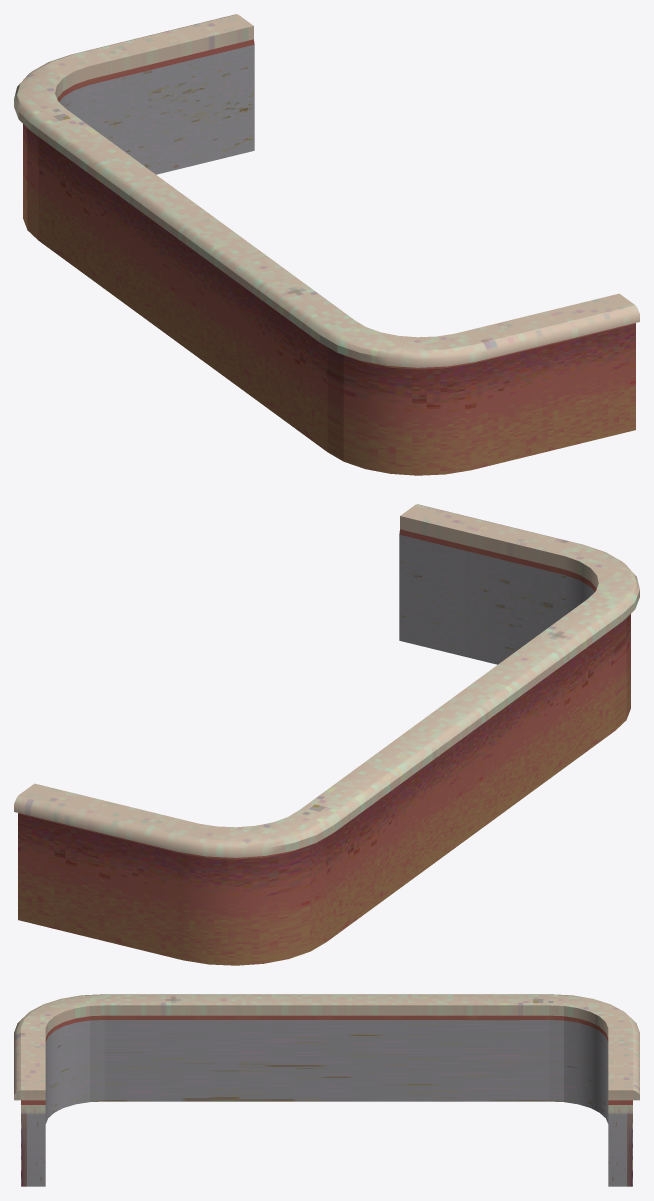
File: ReceptionDesk.fbx
3 views of the same model, one above another, from view 1: azimuth 30°, elevation 25°; view 2: azimuth 150°, elevation 25°; view 3: azimuth 270°, elevation 25° (orthographic). The views are drawn at different scales.
Parts seen in each view (by area): view 1: Cube.001; view 2: Cube.001; view 3: Cube.001.
Part boxes in pixels (bbox=[...]): Cube.001: bbox=[14, 14, 639, 475]; Cube.001: bbox=[14, 504, 639, 965]; Cube.001: bbox=[14, 994, 639, 1186].
Bounding box in the file's own units: 216 × 98.39 × 580.
